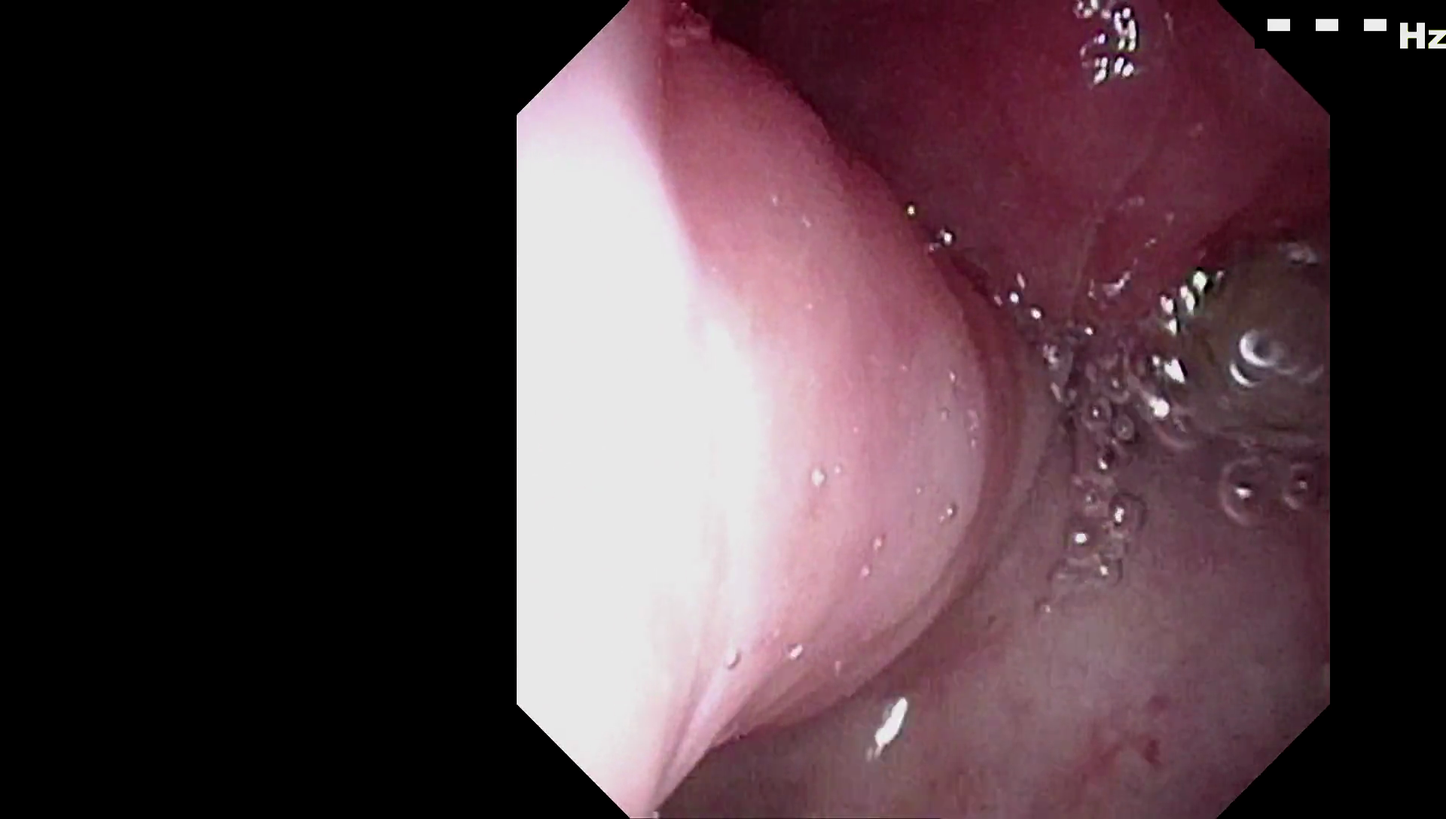close_wall: (524, 151, 816, 699)
